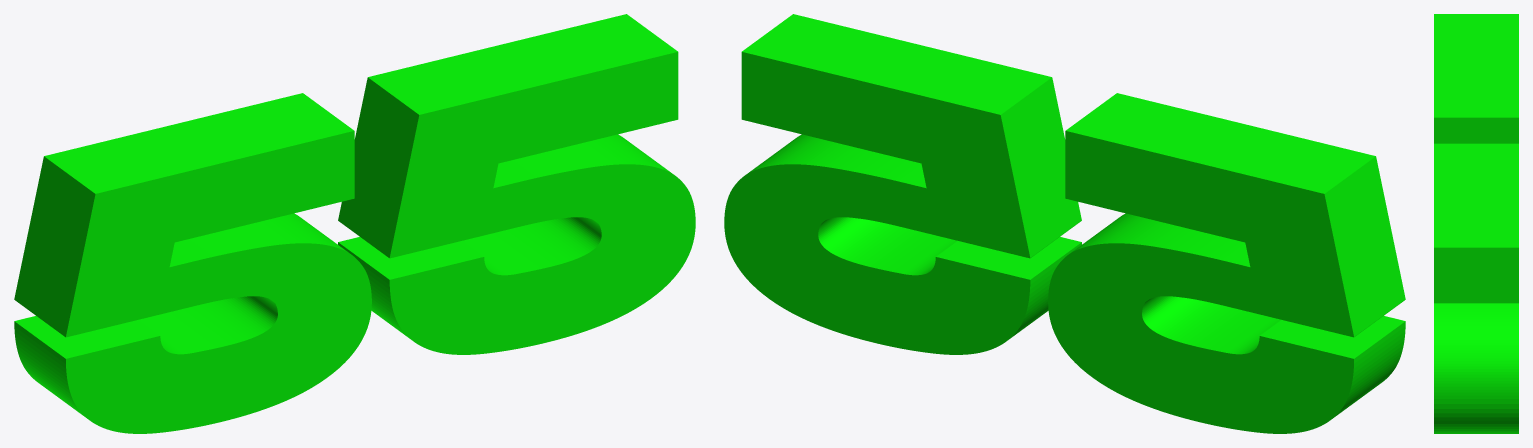
File: 55horizon.glb
3 views of the same model, side by side, from view 1: azimuth 30°, elevation 25°; view 2: azimuth 150°, elevation 25°; view 3: azimuth 270°, elevation 25° (orthographic). The views are drawn at different scales.
Visible parts, largest first — view 1: logo; view 2: logo; view 3: logo.
Boxes of the visible parts, x1,y1,x2,y2 form: logo: [14, 14, 695, 433]; logo: [724, 14, 1405, 433]; logo: [1434, 14, 1518, 433].
Bounding box in the file's own units: 0.9161 × 0.3596 × 0.13.
